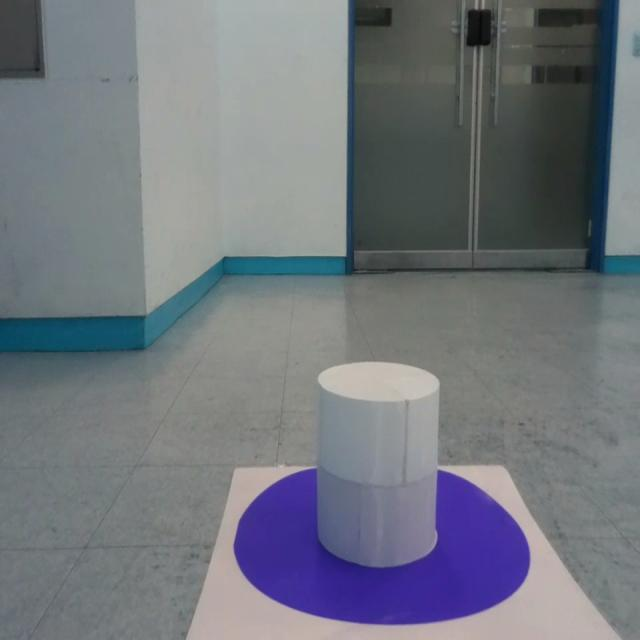cylinder: (315, 362, 441, 568)
